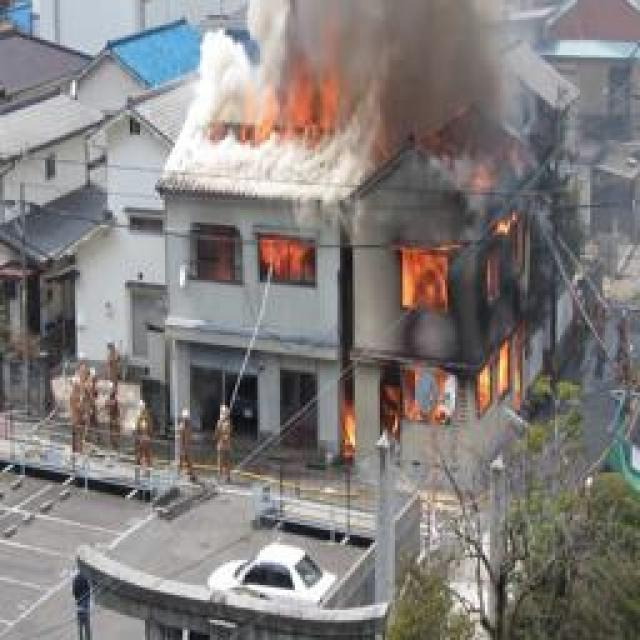Fire: (339, 175, 542, 448), (197, 42, 356, 142), (249, 235, 311, 291)
